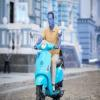motorcycles: (32, 40, 64, 100)
